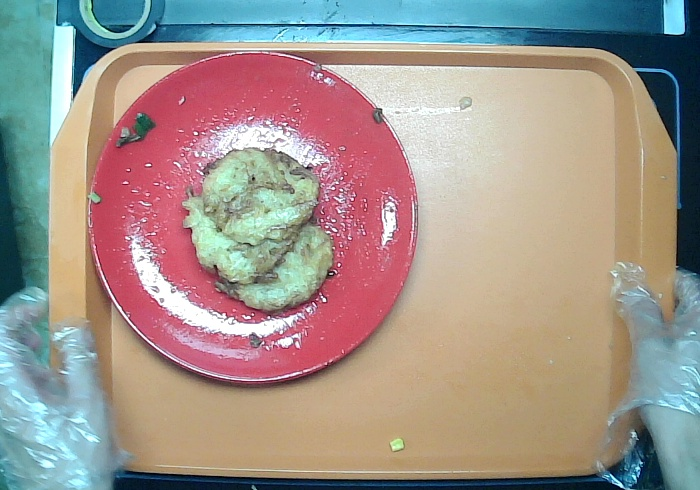HZYJPL-Hong_Se_Yuan_Pan: (69, 36, 440, 403)
